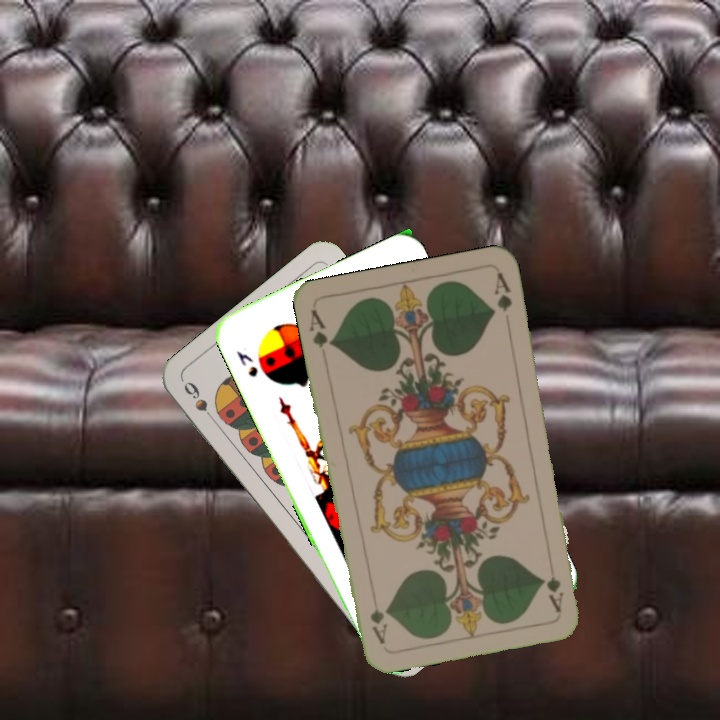GA: (305, 305, 336, 351), (543, 562, 567, 614)
S9: (179, 377, 221, 428)
SK: (232, 346, 261, 380)
